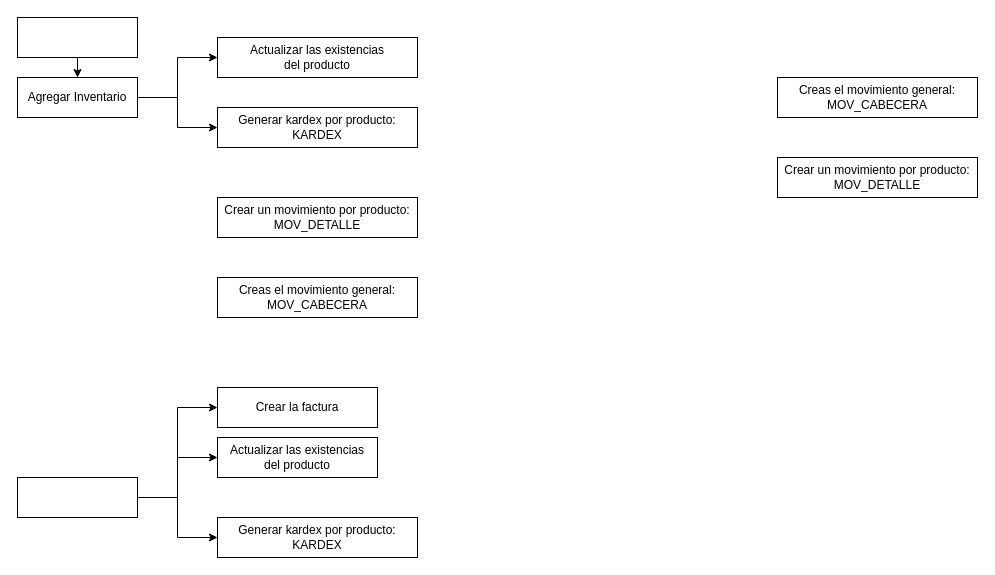
The diagram is 995 pixels wide and 575 high, and some of its shapes have lost their labels. Here are the shapes that lost their labels. From the top down, the centre of each, then its label:
At pixel 77 37: "Crear producto".
At pixel 77 497: "Vender inventario".
